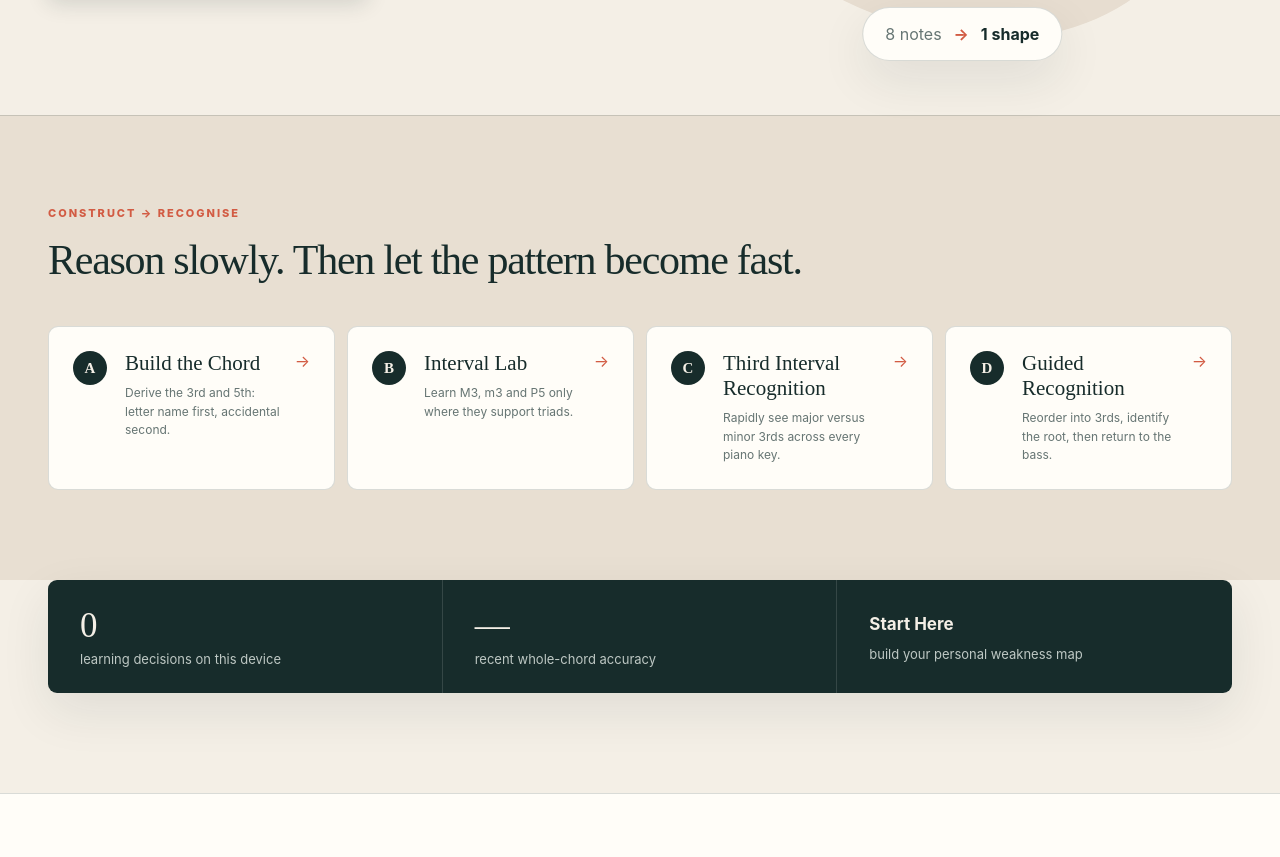
app shell › opens the fast two-choice third recognition drill
(page scrolled)
Click the button "Third Interval Recognition" at (790, 408), box [646,326,933,490]
(page scrolled)
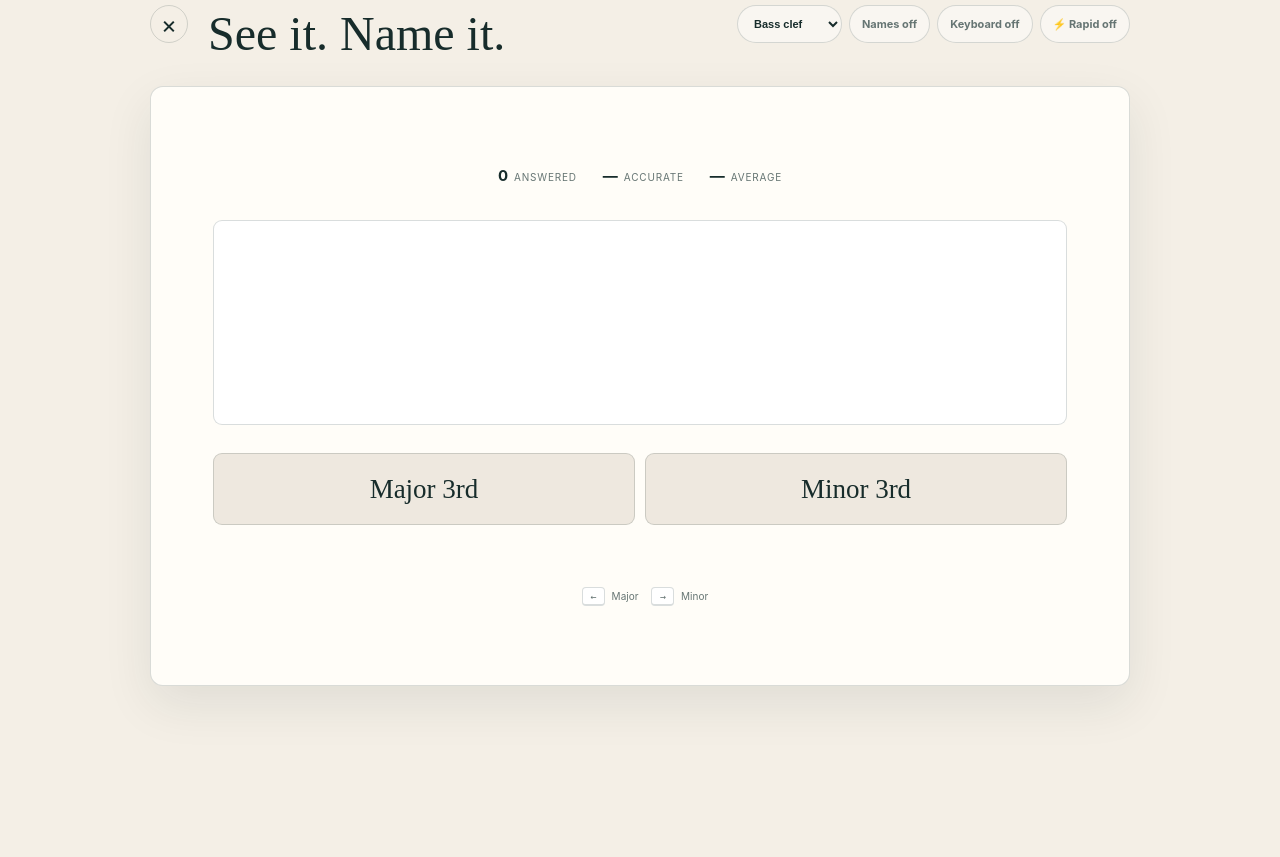
Now the heading "See it. Name it." is shown, box [208,7,505,60]
Now the button "Major 3rd" is enabled, box [213,453,635,525]
Now the element with class "third-staff" is shown, box [213,220,1067,425]
